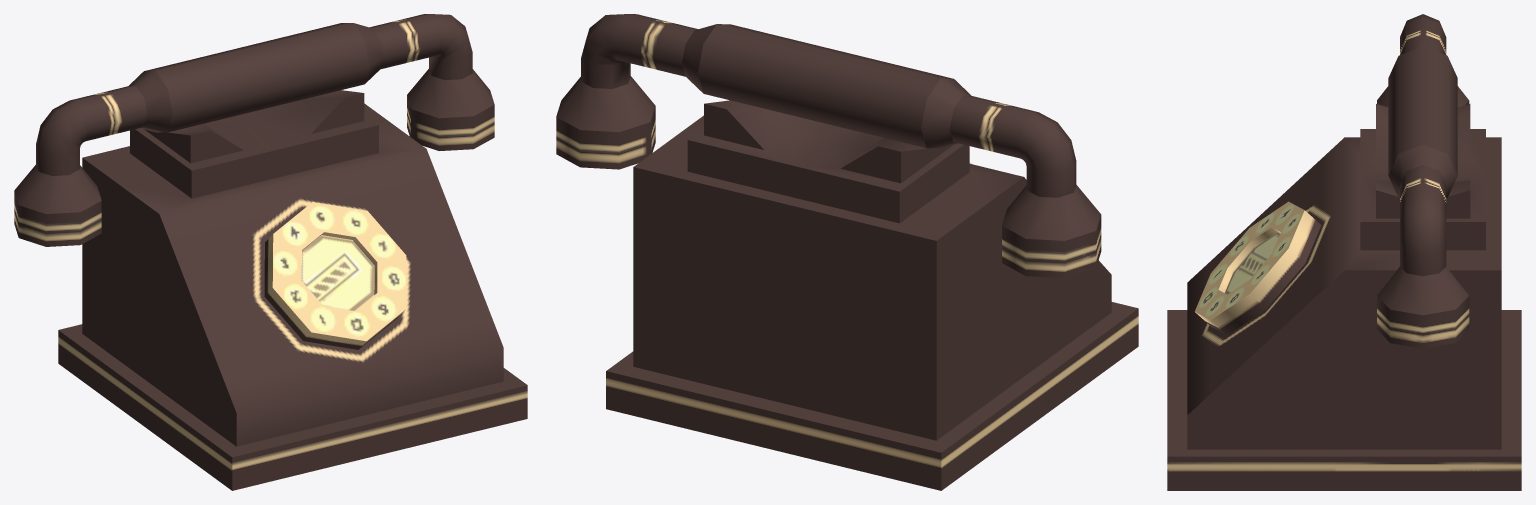
Rendered from phone.glb.
3 renders of one model, left to right at view 1: azimuth 30°, elevation 25°; view 2: azimuth 150°, elevation 25°; view 3: azimuth 270°, elevation 25°, orthographic. The views are drawn at different scales.
Parts seen in each view (by area): view 1: base, handle; view 2: base, handle; view 3: base, handle.
Part boxes in pixels (box(x1,y1,x2,y2)): base: box(58, 90, 527, 490); handle: box(14, 14, 494, 246); base: box(606, 100, 1138, 490); handle: box(556, 14, 1101, 278); base: box(1167, 104, 1521, 490); handle: box(1377, 14, 1469, 348).
Bounding box in the file's own units: 1.24 × 0.7911 × 0.7896.
Materials: 1 (1 with a texture image).
